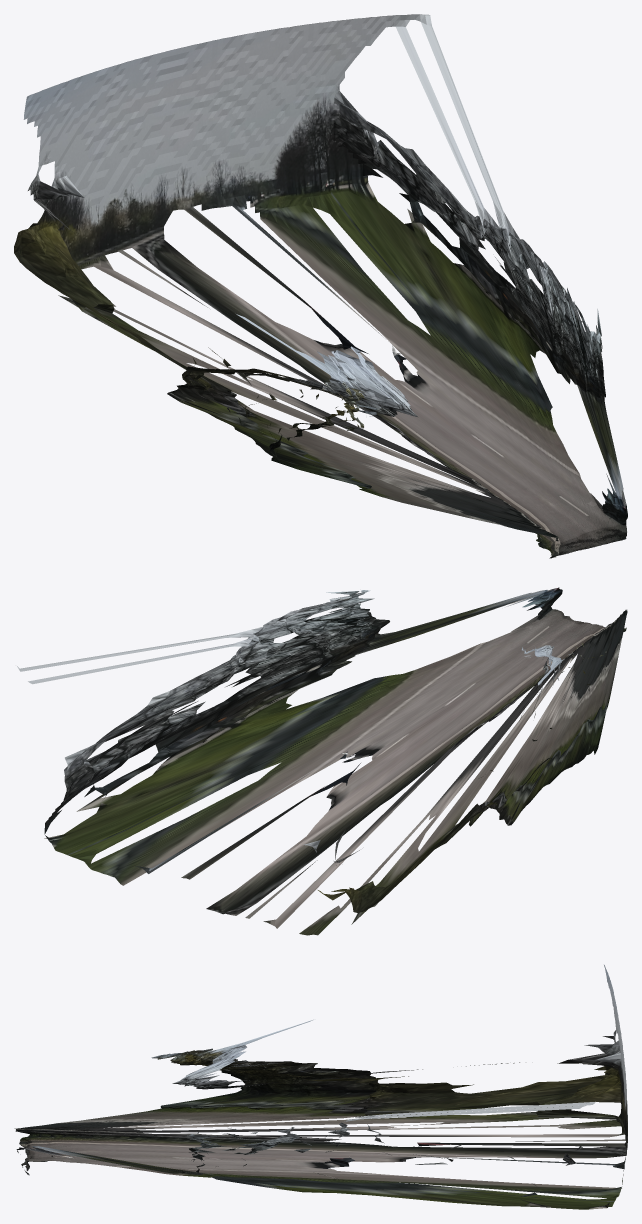
3 views of the same model, one above another, from view 1: azimuth 30°, elevation 25°; view 2: azimuth 150°, elevation 25°; view 3: azimuth 270°, elevation 25° (orthographic). The views are drawn at different scales.
Visible parts, largest first — view 1: defaultobject; view 2: defaultobject; view 3: defaultobject.
Boxes of the visible parts, x1,y1,x2,y2 form: defaultobject: (14, 14, 627, 558); defaultobject: (17, 587, 627, 935); defaultobject: (14, 965, 627, 1209).
Size of the model in its own units: 24.44 by 11.86 by 45.03.
Materials: 1 (1 with a texture image).
